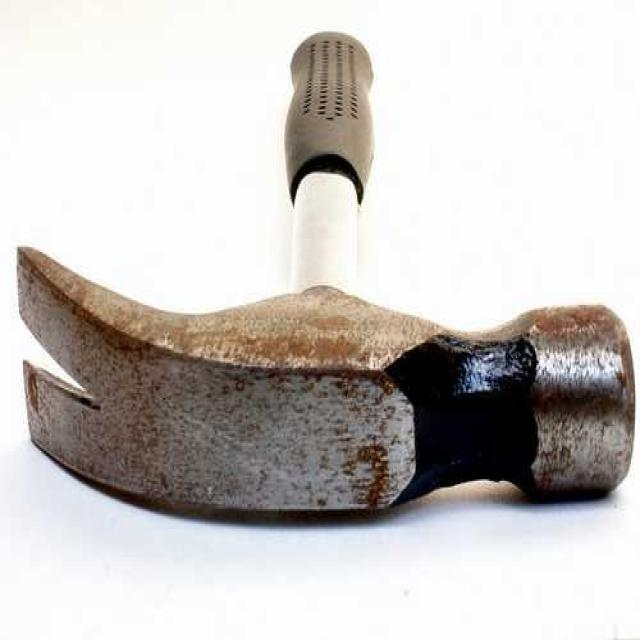hammer: (26, 28, 628, 561)
